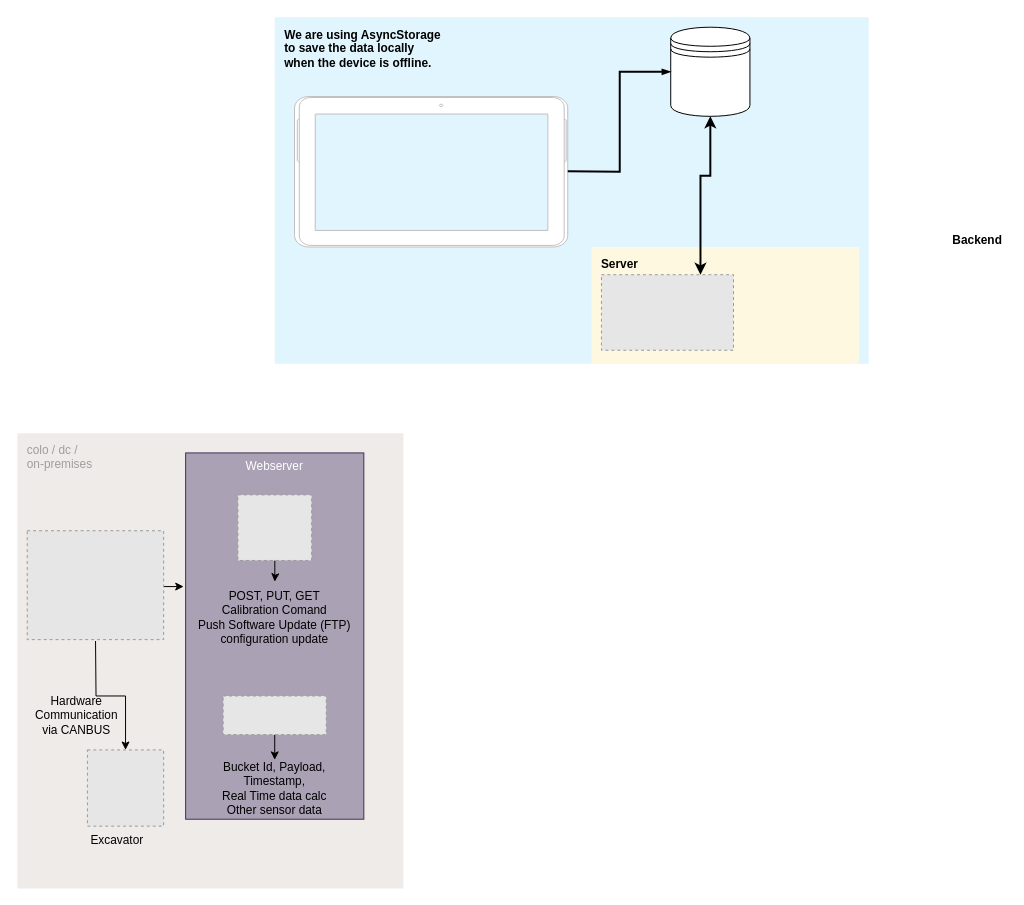
The diagram is 1024 pixels wide and 905 high, and some of its shapes have lost their labels. Grey dashed boxes stand in for pictures. The shapes that lost their labels are listed below. From the top down, each one's centre as x and y in pixels, then its label:
At point (710, 71): "Local DB".
At point (431, 171): "Galaxy Tab Active 3".
